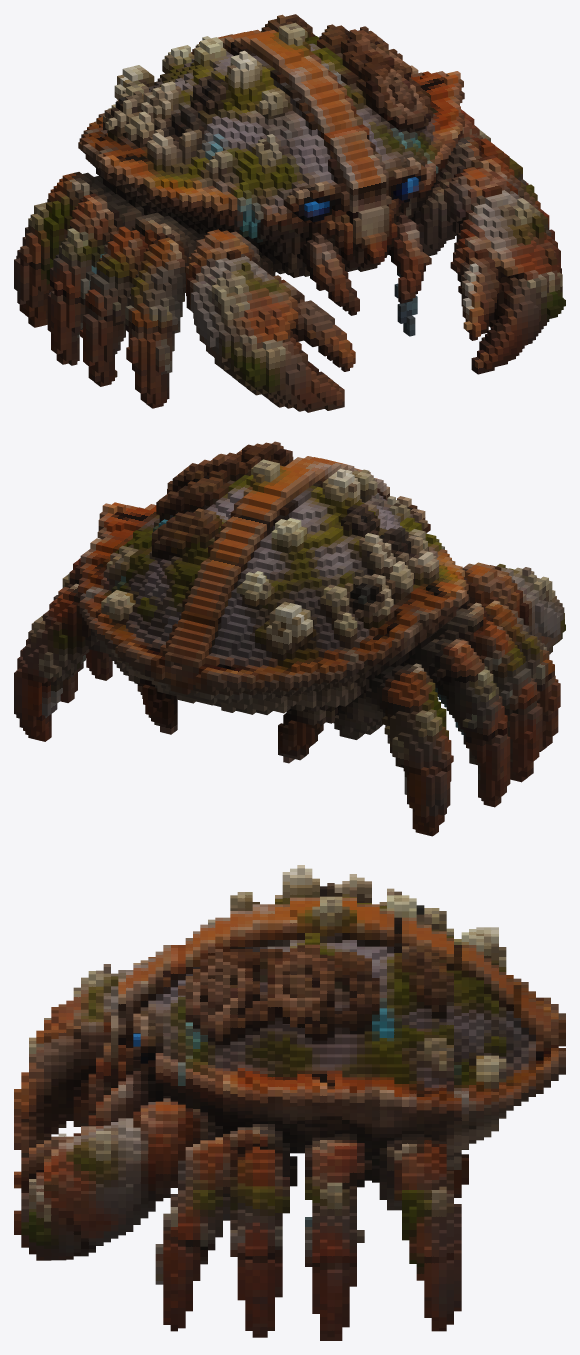
The model's file is u_crabe.glb.
3 renders of one model, top to bottom at view 1: azimuth 30°, elevation 25°; view 2: azimuth 150°, elevation 25°; view 3: azimuth 270°, elevation 25°, orthographic. The views are drawn at different scales.
Visible parts, largest first — view 1: crabe_body; view 2: crabe_body; view 3: crabe_body.
Part boxes in pixels (x1,y1,x2,y2): crabe_body: (14,14,565,412); crabe_body: (14,441,565,836); crabe_body: (14,865,565,1340).
Bounding box in the file's own units: 1.43 × 0.85 × 1.31.
Materials: 1 (1 with a texture image).
